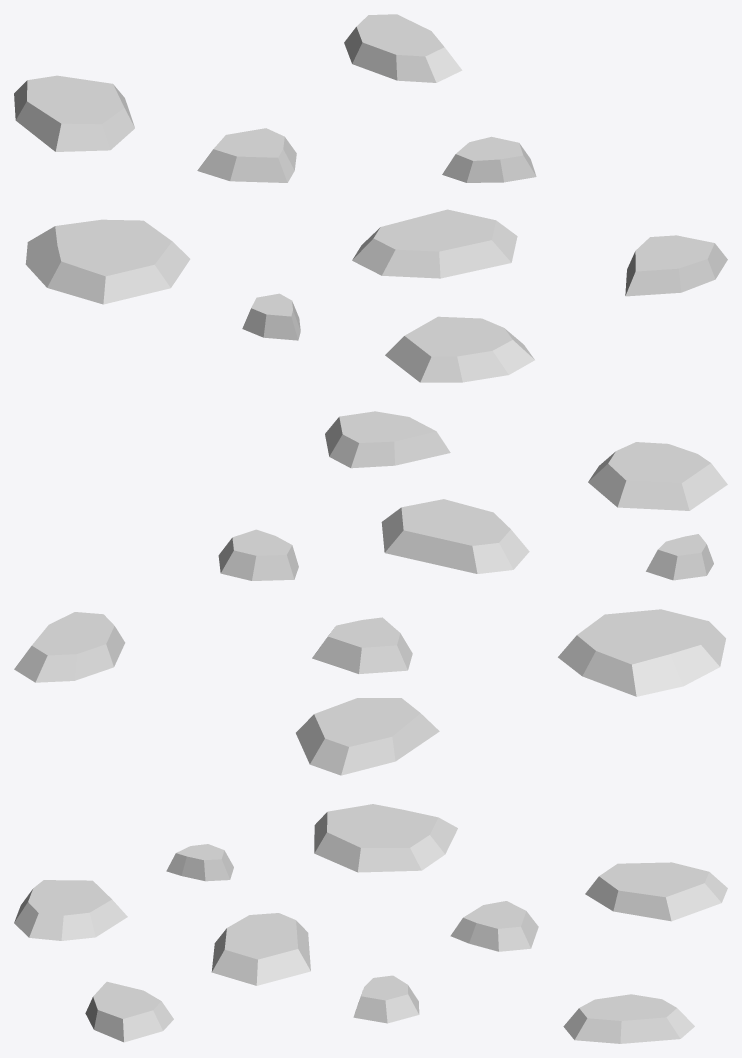
Rendered from stone_013.fbx.
3 views of the same model, one above another, from view 1: azimuth 30°, elevation 25°; view 2: azimuth 150°, elevation 25°; view 3: azimuth 270°, elevation 25° (orthographic). The views are drawn at different scales.
Visible parts, largest first — view 1: stone.013; view 2: stone.013; view 3: stone.013.
Boxes of the visible parts, x1,y1,x2,y2 form: stone.013: (14, 14, 727, 382); stone.013: (14, 411, 727, 775); stone.013: (14, 804, 727, 1043).
Size of the model in its own units: 500 by 17.93 by 658.
1 material, 1 textured.
